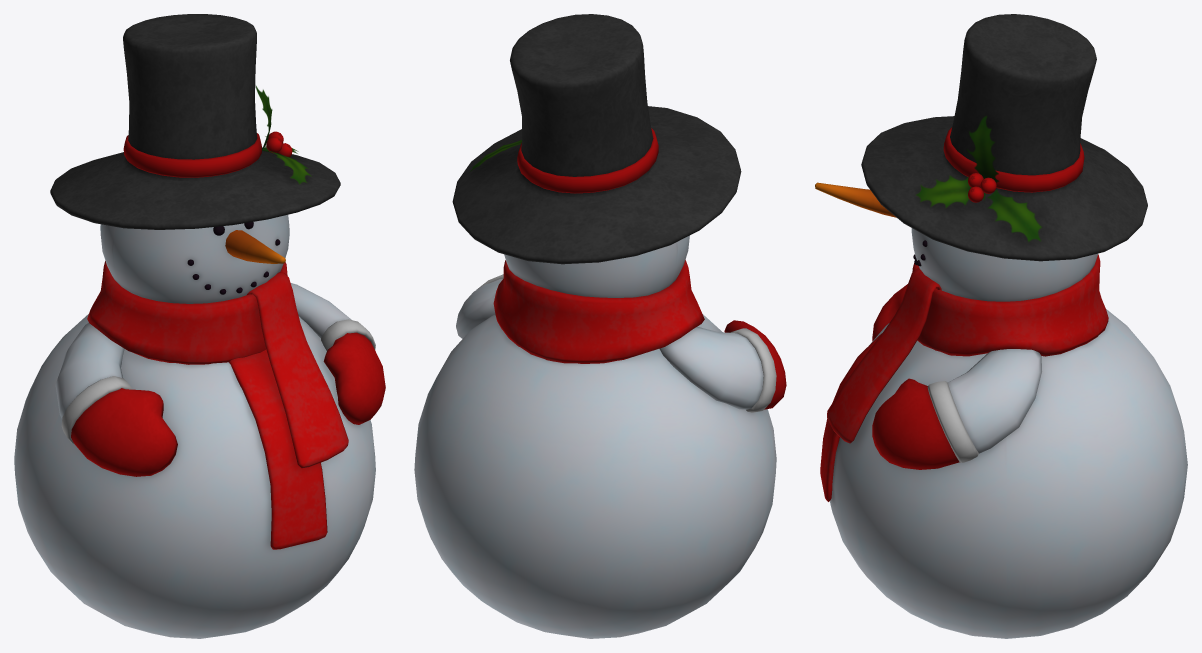
File: snowman.glb
The picture shows the model from 3 angles, left to right: view 1: azimuth 30°, elevation 25°; view 2: azimuth 150°, elevation 25°; view 3: azimuth 270°, elevation 25°; orthographic projection.
Visible parts, largest first — view 1: snowman_snowman_0; view 2: snowman_snowman_0; view 3: snowman_snowman_0.
Part boxes in pixels (left/top/right/bottom): snowman_snowman_0: left=14, top=14, right=385, bottom=638; snowman_snowman_0: left=414, top=14, right=786, bottom=638; snowman_snowman_0: left=815, top=14, right=1187, bottom=638.
Size of the model in its own units: 0.5603 by 1 by 0.5758.
Materials: 1 (1 with a texture image).
